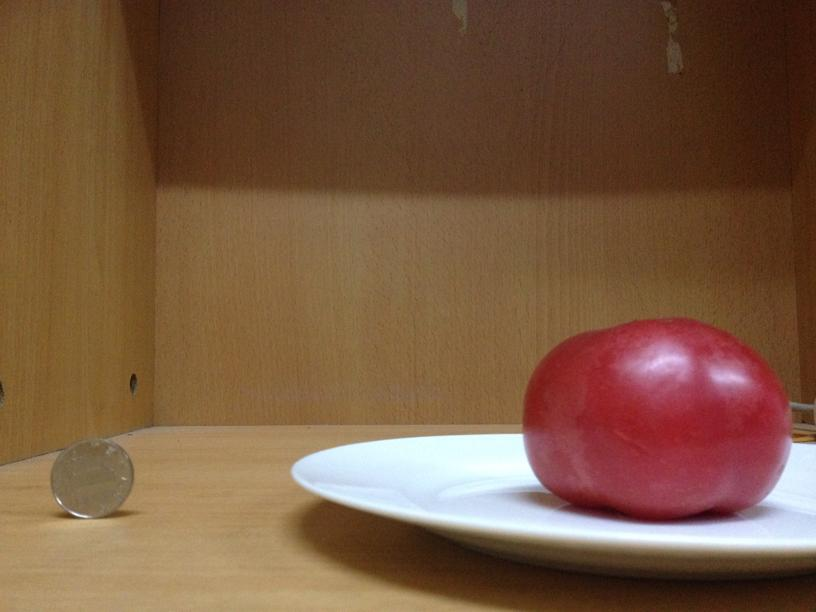coin: (50, 442, 131, 517)
tomato: (525, 321, 792, 514)
